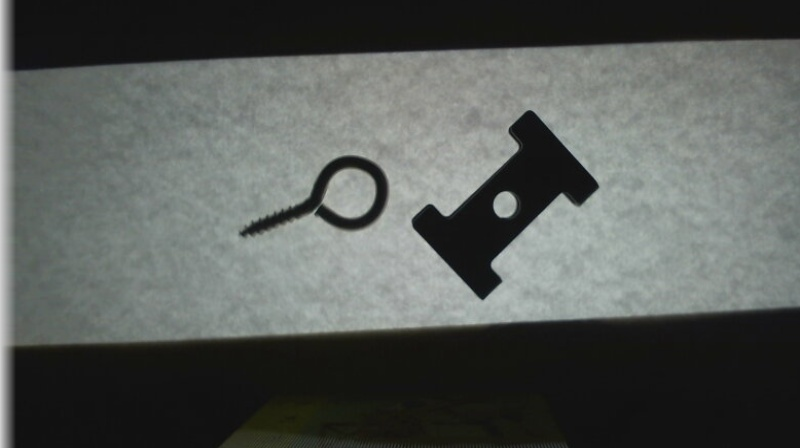O001: (235, 153, 392, 244)
O002: (410, 109, 600, 304)
